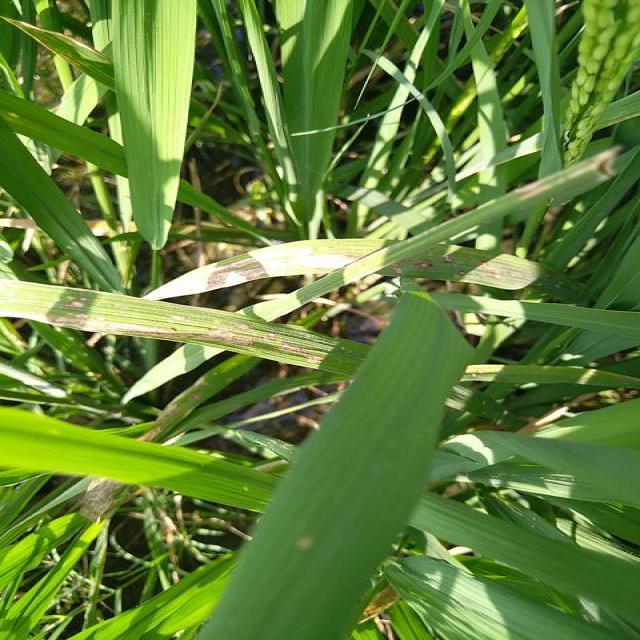Leaf Streak: (0, 280, 365, 370), (143, 239, 387, 301), (140, 384, 204, 444), (459, 254, 541, 291), (68, 478, 132, 524), (387, 247, 455, 272)
